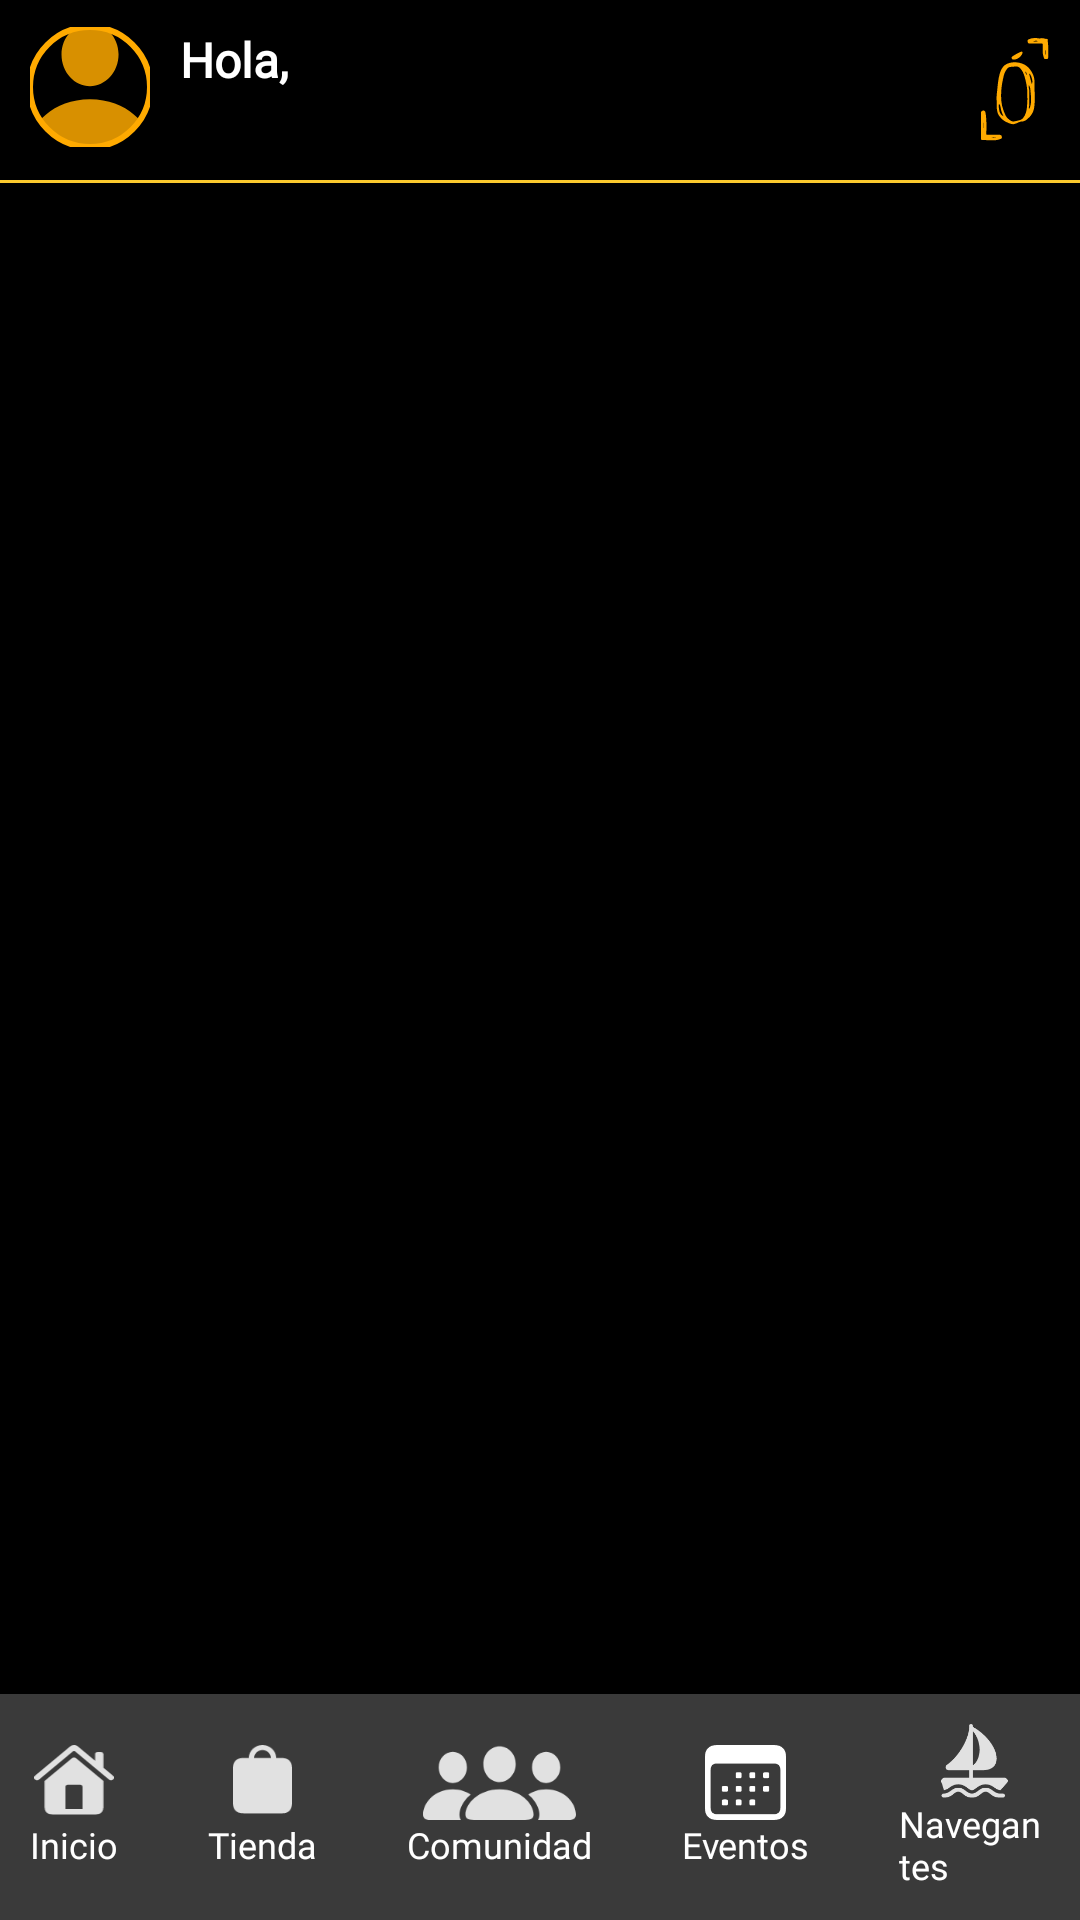

Icon click points for this 1080w x 1920h phone screenshot, format (x,y):
user: (90,87)
